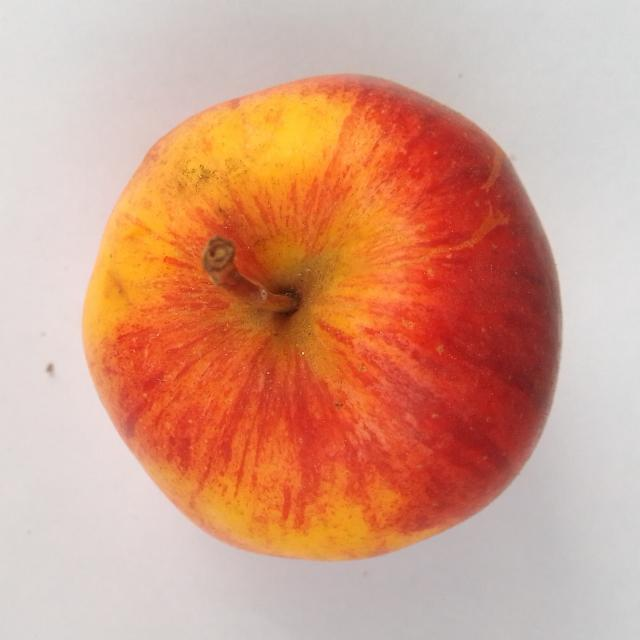Fresh Apple: (85, 75, 545, 562)
